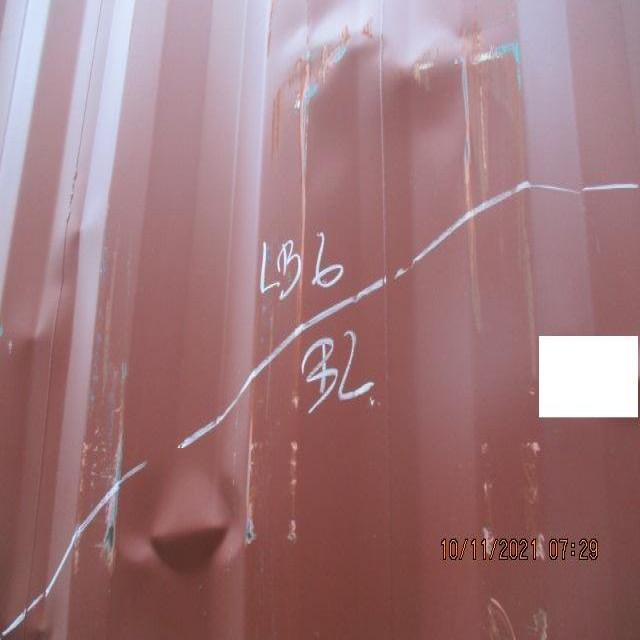Dent: (247, 11, 594, 231)
Minor-Dent: (68, 428, 302, 591), (1, 140, 155, 379)
